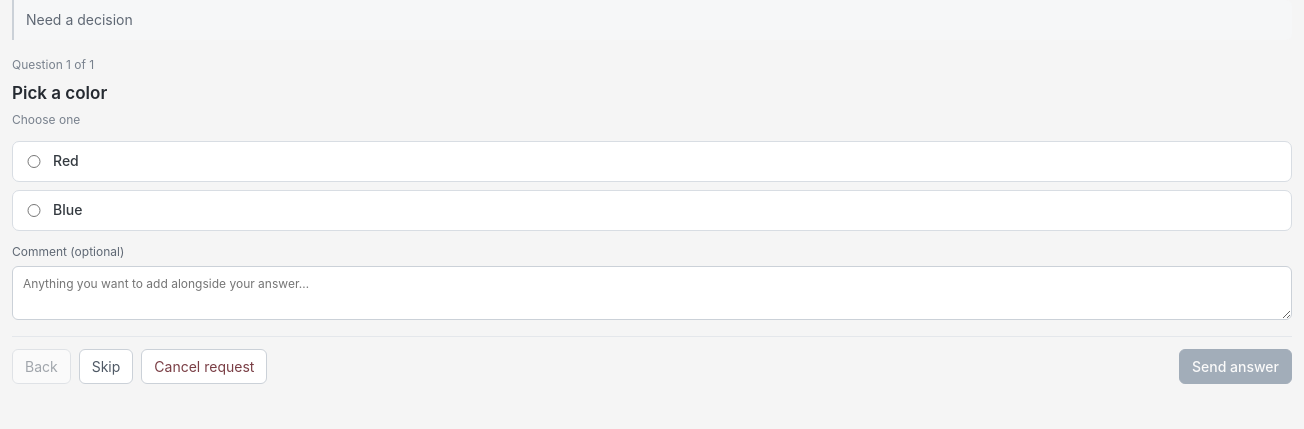
Test: QuestionRich — Cancel (explicit pending-question cancellation) › a retry-safe cancel-submission error (store_failed) shows a "try again" hint and Cancel stays available
Click the button with test id "question-cancel".
click(204, 366)  # box [141,349,267,384]
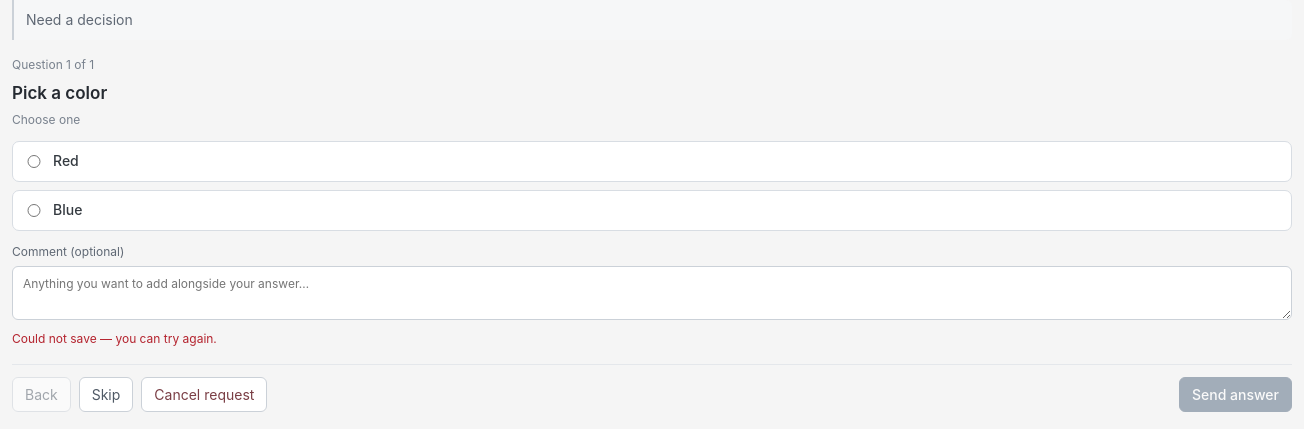
Expected: the button with test id "question-cancel" is enabled, [141,377,267,412]
Expected: the element with test id "question-cancel-error" shows "Could not save", [12,331,97,346]
Expected: the element with test id "question-cancel-error" shows "try again", [97,331,217,346]
